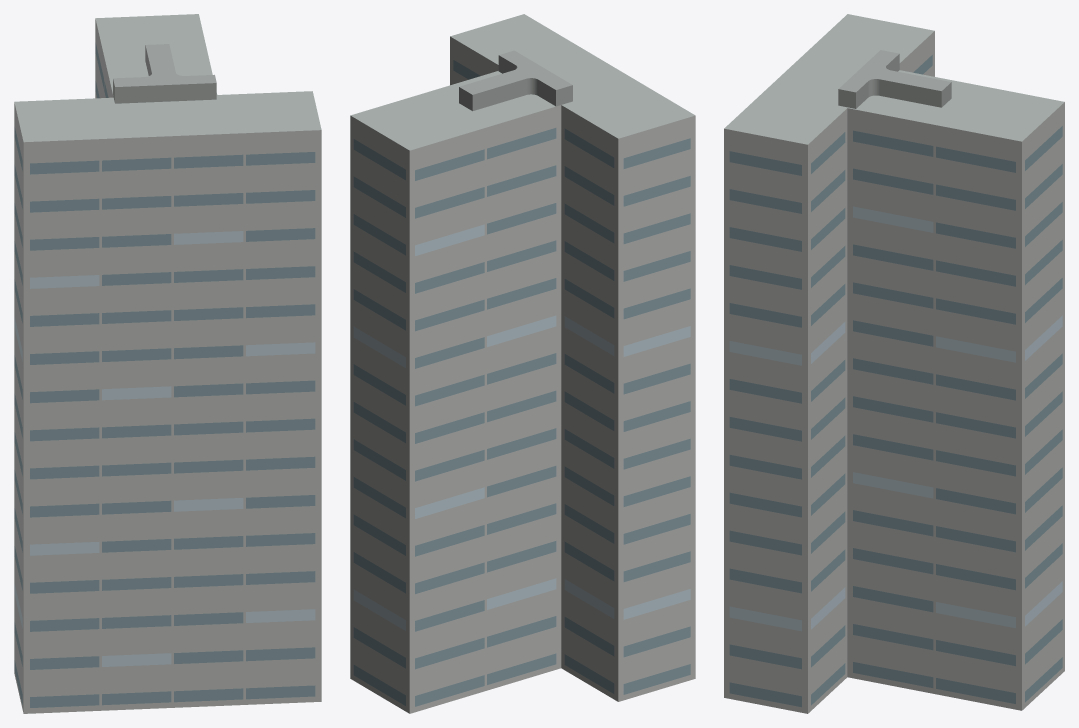
The model's file is fallback-prestige-119.glb.
3 renders of one model, left to right at view 1: azimuth 30°, elevation 25°; view 2: azimuth 150°, elevation 25°; view 3: azimuth 270°, elevation 25°, orthographic.
Parts seen in each view (by area): view 1: fallback-prestige-119; view 2: fallback-prestige-119; view 3: fallback-prestige-119.
Boxes of the visible parts, left/top/right/bottom form: fallback-prestige-119: left=14, top=14, right=321, bottom=713; fallback-prestige-119: left=350, top=14, right=695, bottom=713; fallback-prestige-119: left=724, top=14, right=1064, bottom=713.
Size of the model in its own units: 40.7 by 85 by 44.83.
